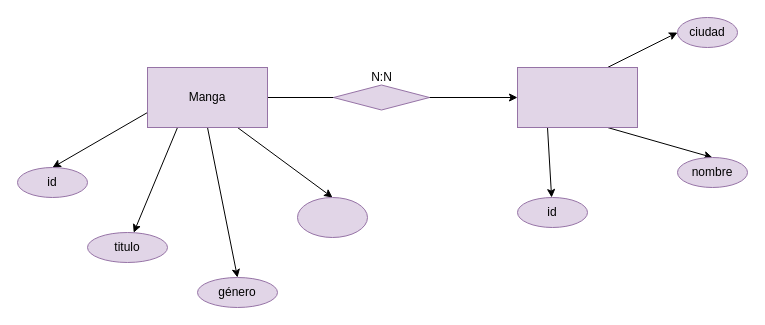
The diagram is 765 pixels wide and 325 high, and some of its shapes have lost their labels. The shapes that lost their labels are listed below. From the top down, each one's box as (x1, y1, x2, y2) in pixels, then its label:
(332, 84, 430, 110): escribe
(516, 66, 638, 128): Autor
(296, 196, 368, 238): serie/saga
